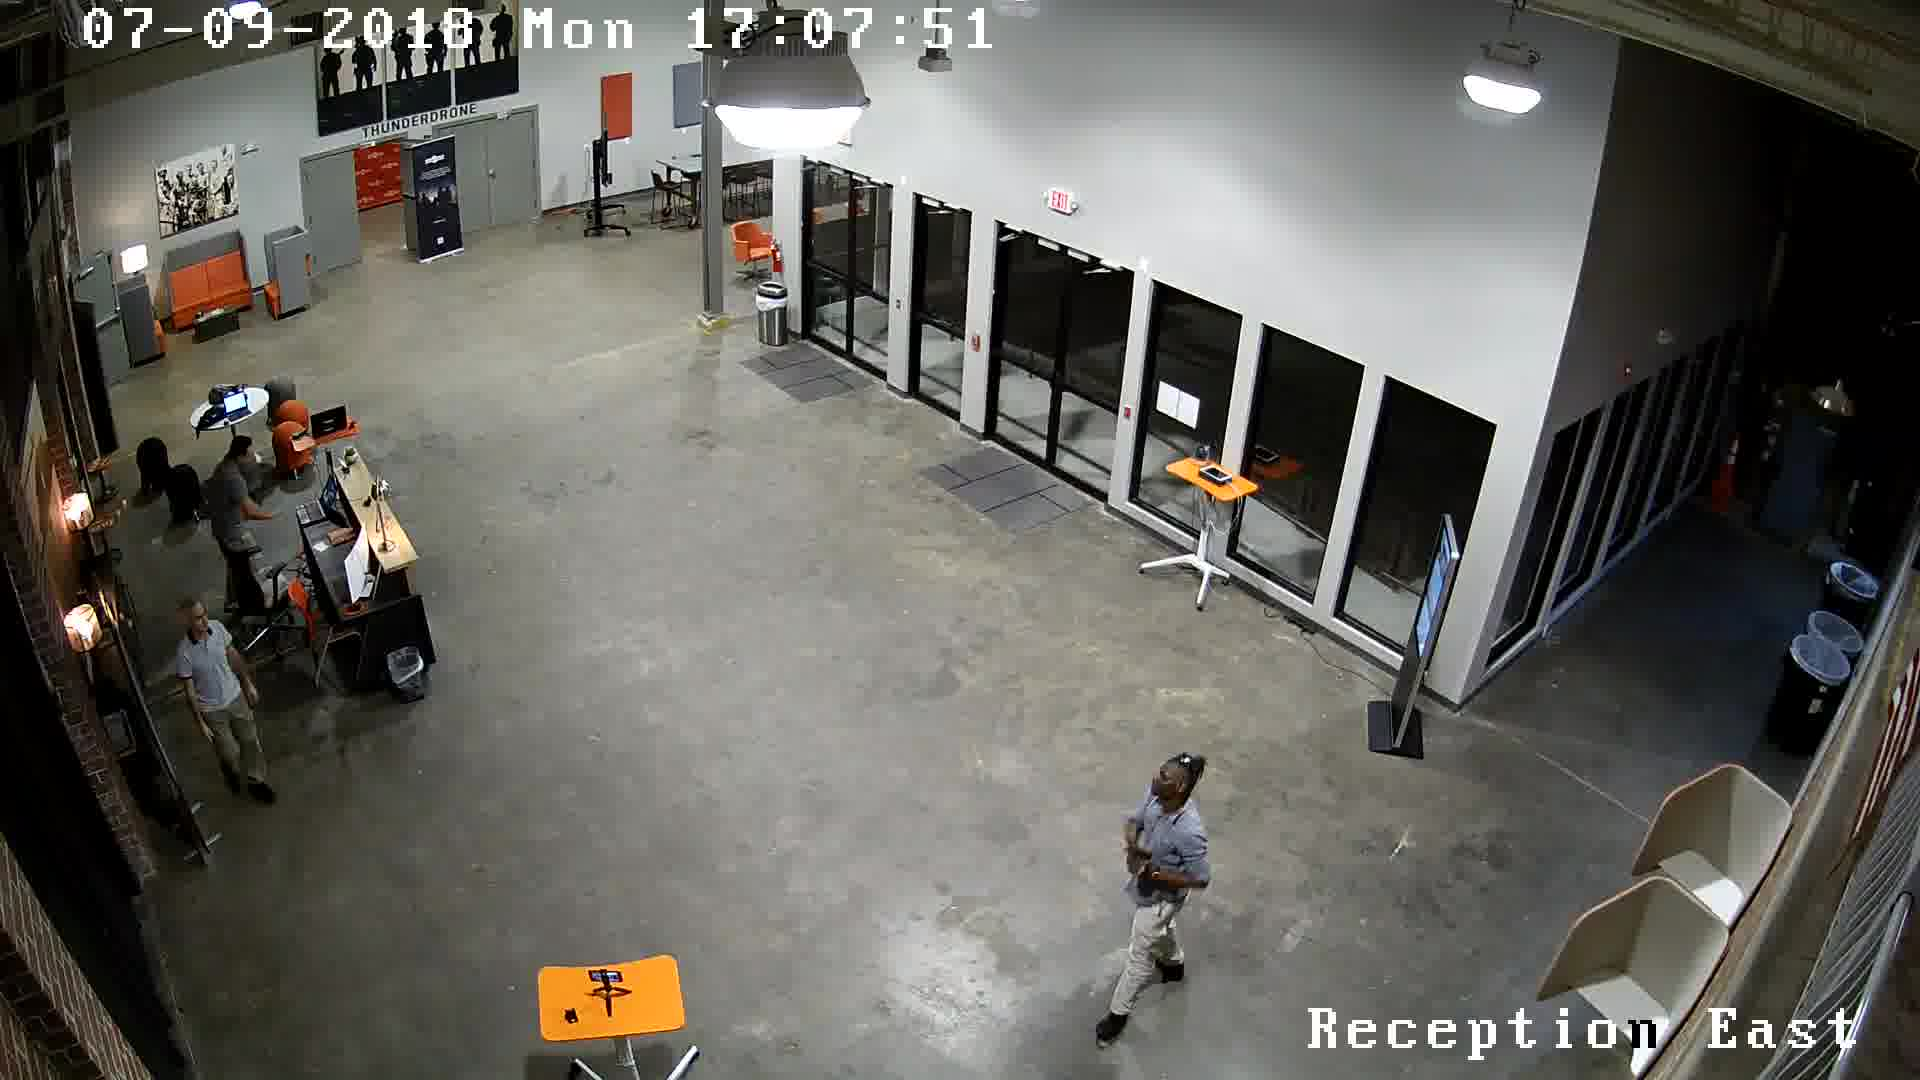pistol: (1097, 832, 1172, 895)
